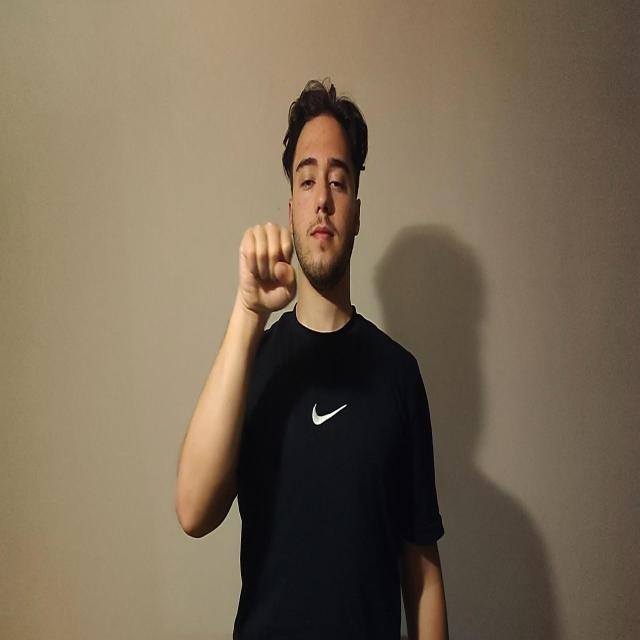yes: (237, 220, 297, 316)
